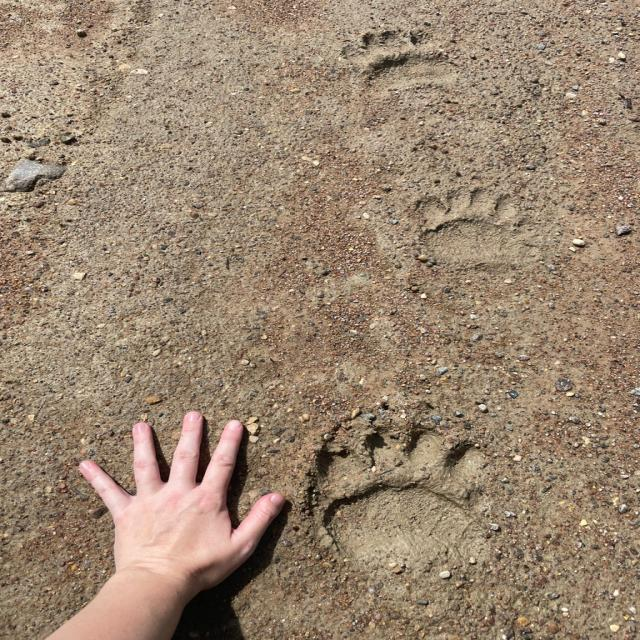bear: (306, 435, 492, 555), (410, 194, 527, 265), (340, 27, 462, 85)
